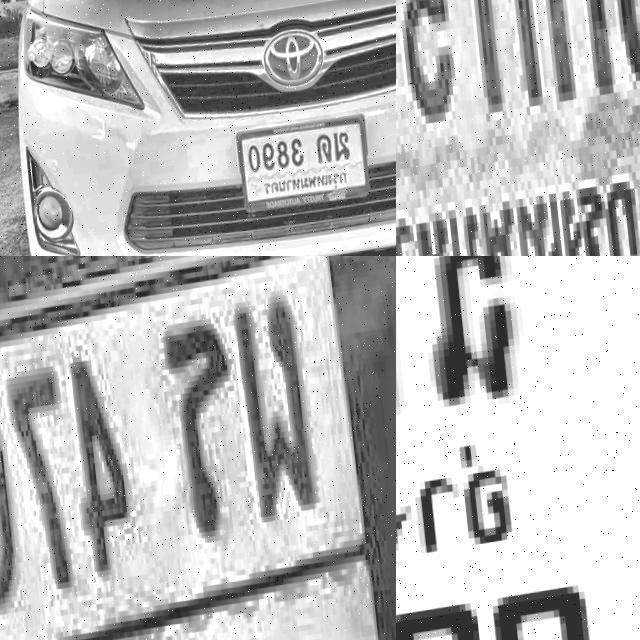license-plate: (0, 256, 396, 640), (396, 256, 640, 640), (396, 0, 640, 256), (232, 118, 370, 218)
